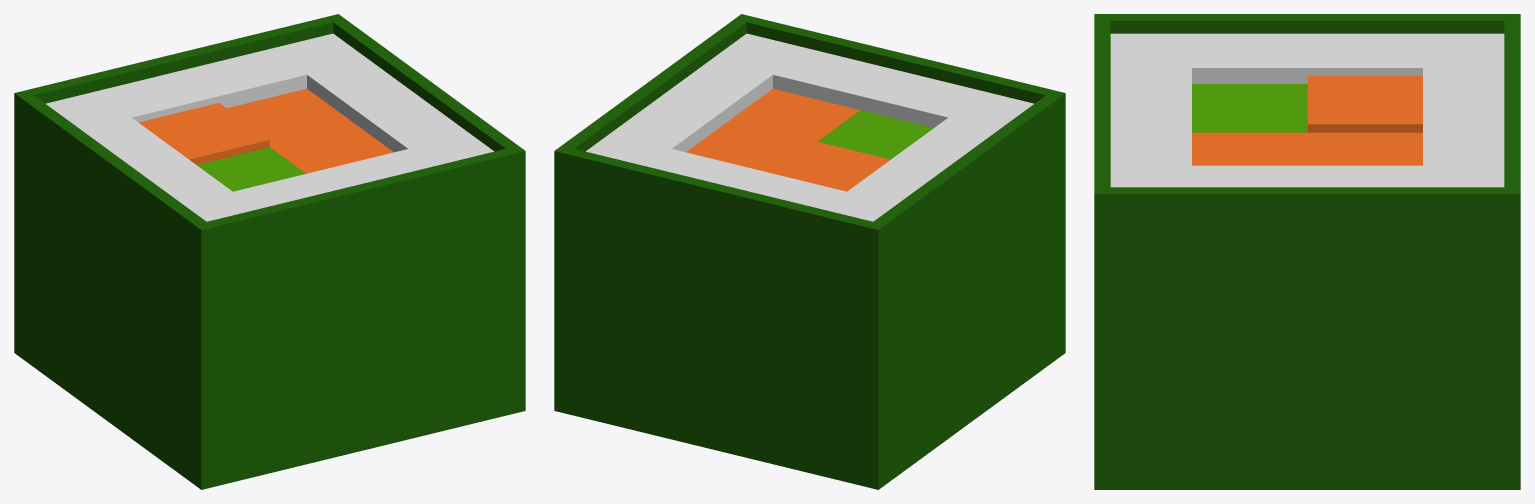
The model's file is Sushi.fbx.
3 views of the same model, side by side, from view 1: azimuth 30°, elevation 25°; view 2: azimuth 150°, elevation 25°; view 3: azimuth 270°, elevation 25° (orthographic). The views are drawn at different scales.
Visible parts, largest first — view 1: rolls; view 2: rolls; view 3: rolls.
Part boxes in pixels (box(x1,y1,x2,y2)): rolls: box(14, 14, 525, 489); rolls: box(554, 14, 1065, 489); rolls: box(1094, 14, 1520, 489).
Bounding box in the file's own units: 8.74 × 6.69 × 8.74.
